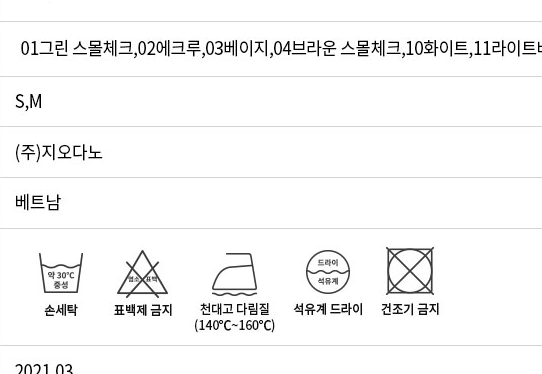KR_dry_clean_petroleum: (302, 246, 353, 295)
KR_hand_wash_30_neutral: (37, 246, 85, 297)
KR_no_chlorine_bleach: (116, 248, 172, 299)
KR_no_tumble_dry: (378, 240, 441, 299)
